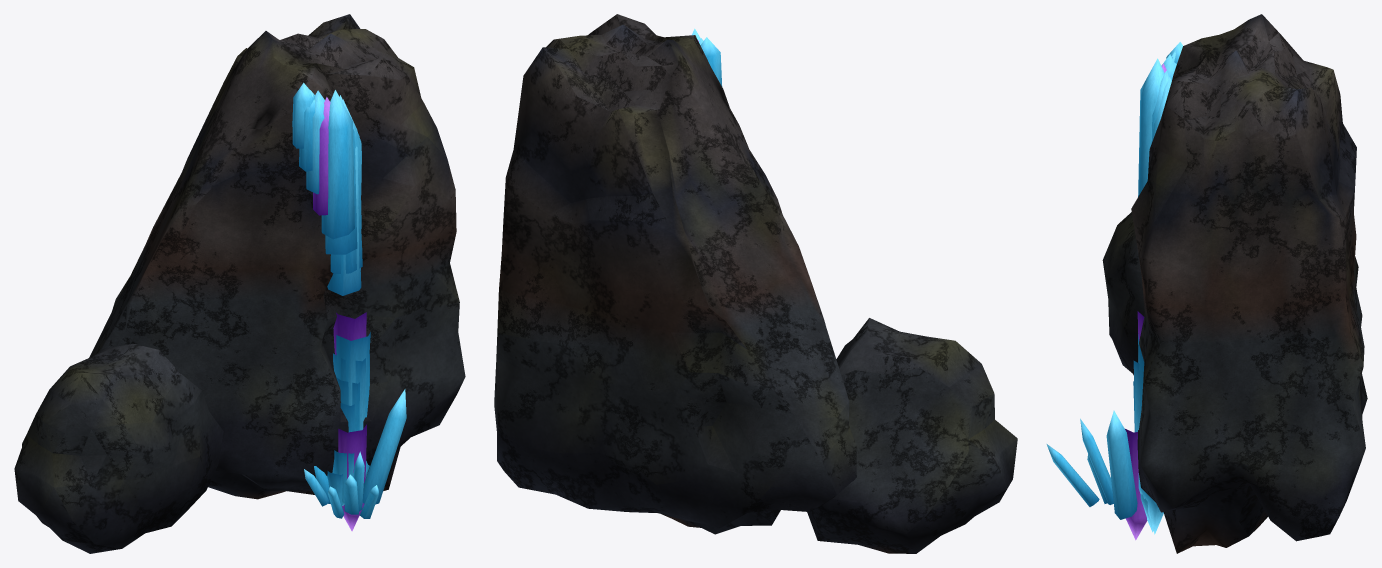
The model's file is geode_seam_b.glb.
3 renders of one model, left to right at view 1: azimuth 30°, elevation 25°; view 2: azimuth 150°, elevation 25°; view 3: azimuth 270°, elevation 25°, orthographic. The views are drawn at different scales.
Parts seen in each view (by area): view 1: geode_seam_b; view 2: geode_seam_b; view 3: geode_seam_b.
Part boxes in pixels (x1,y1,x2,y2): geode_seam_b: [14, 14, 465, 553]; geode_seam_b: [494, 14, 1017, 553]; geode_seam_b: [1046, 14, 1367, 553].
Size of the model in its own units: 5.76 by 6.01 by 3.42.
3 materials, 3 textured.
